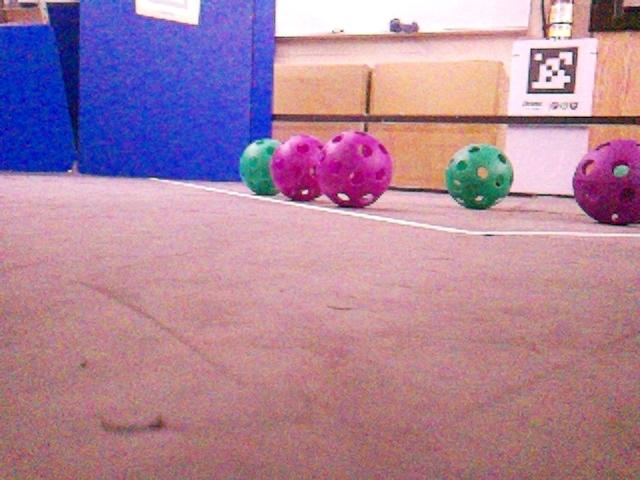Green: (444, 143, 514, 209), (237, 138, 281, 195)
Purple: (571, 138, 639, 224), (316, 130, 392, 206), (270, 135, 325, 203)
